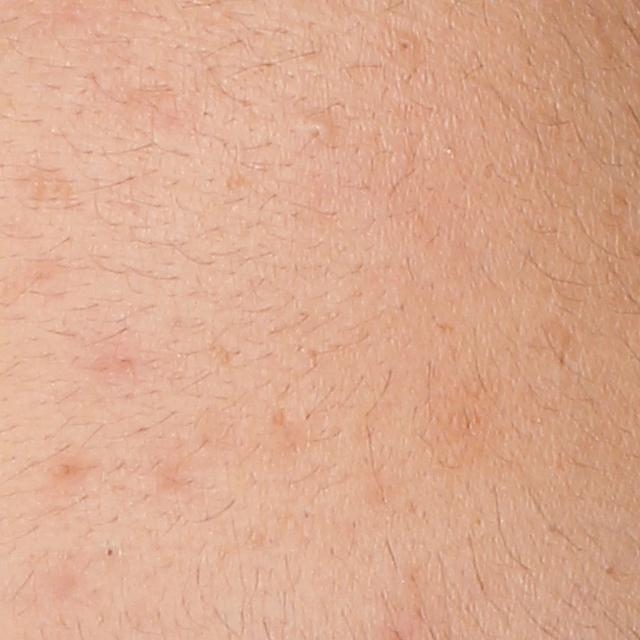comedo: (391, 31, 419, 60), (305, 115, 336, 141), (100, 541, 123, 565)
